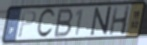1: (74, 8, 85, 37)
B: (52, 8, 75, 39)
C: (35, 7, 57, 39)
H: (108, 4, 132, 36)
N: (89, 5, 112, 38)
P: (17, 9, 38, 39)
